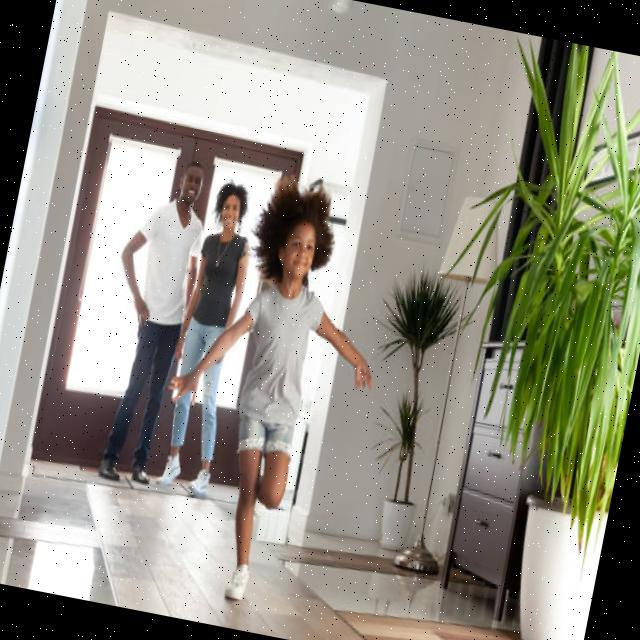Person: (130, 162, 407, 618), (80, 152, 215, 488), (154, 179, 266, 498)
